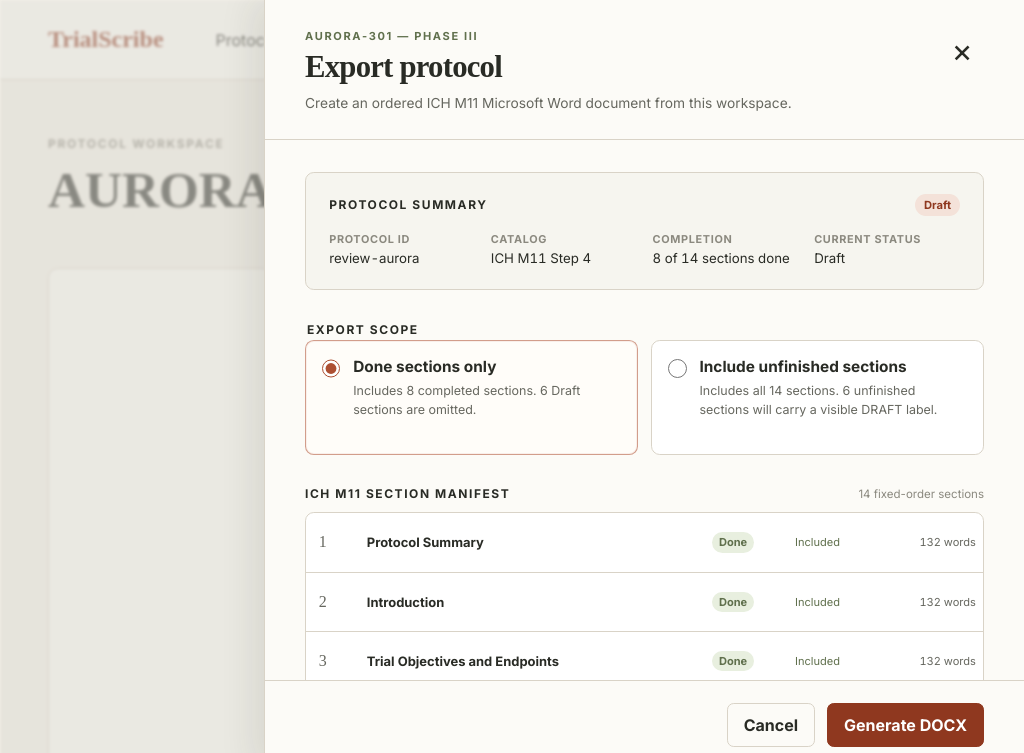
Test case: ExportPage › selects drafts and moves generation into a local-only building state
This screenshot has width=1024, height=753.
Click the radio button labelled "Include unfinished sections": (678, 368) 668,359 -> 687,378
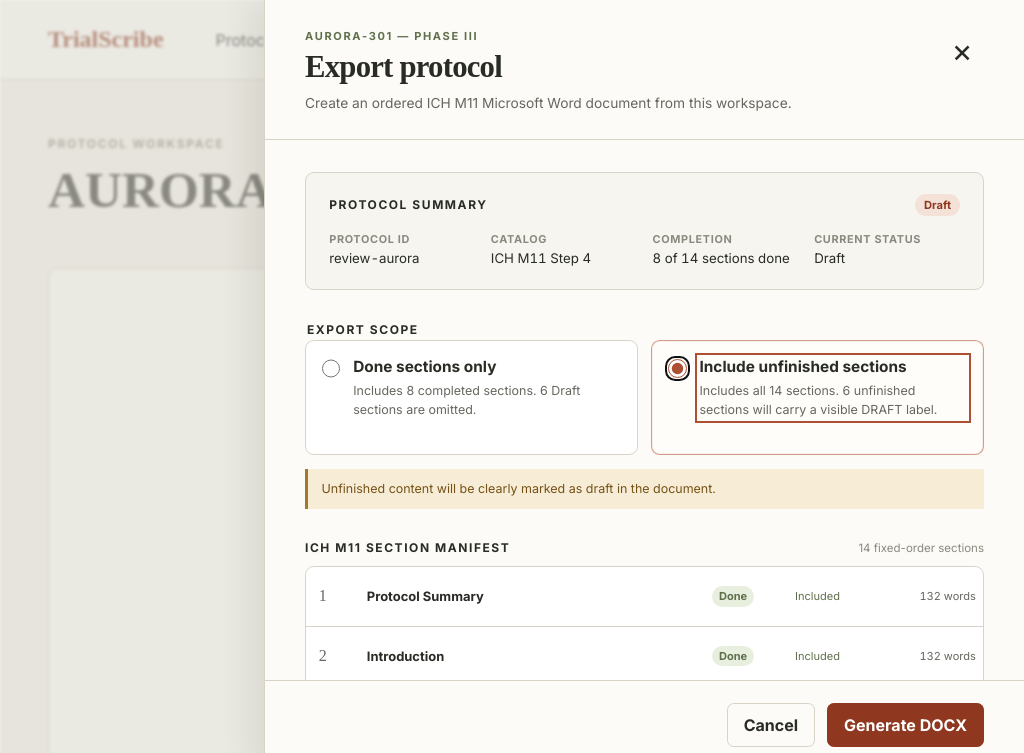
Now the message shows "marked as draft", box 322,481 -> 716,496
Click the button "Generate DOCX": (906, 724) 827,702 -> 984,746
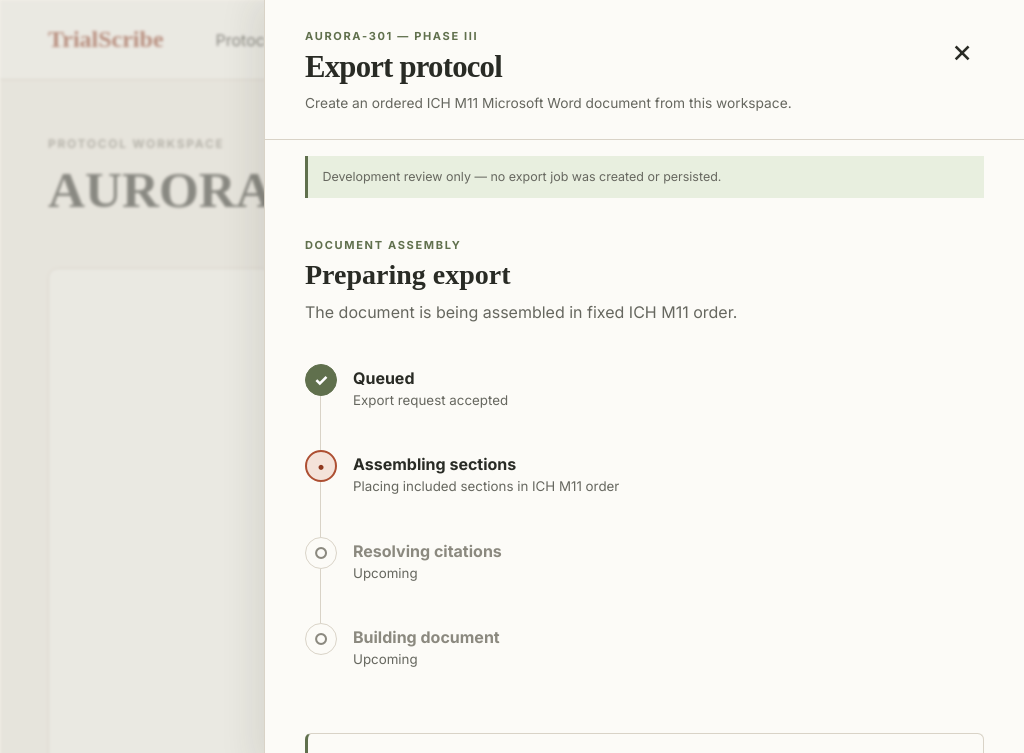
Now the heading "Preparing export" is shown, box 305,259 -> 511,290
Now the message shows "no export job was created", box 322,169 -> 721,184
